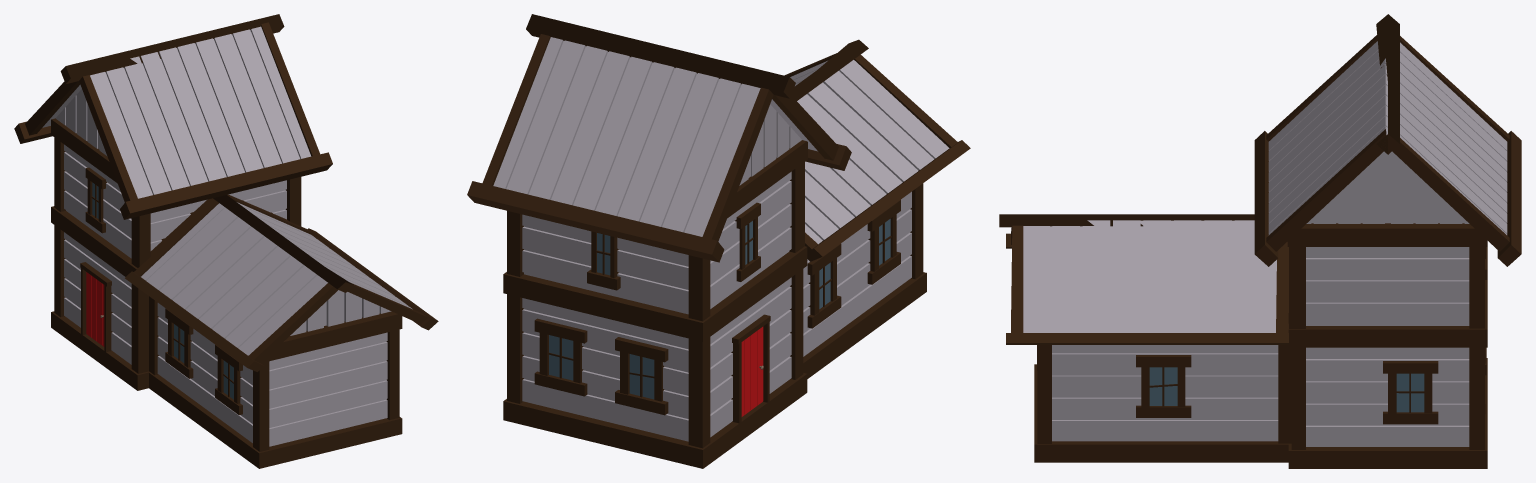
File: House10.fbx
3 views of the same model, side by side, from view 1: azimuth 30°, elevation 25°; view 2: azimuth 150°, elevation 25°; view 3: azimuth 270°, elevation 25° (orthographic). The views are drawn at different scales.
Parts seen in each view (by area): view 1: arc; view 2: arc; view 3: arc.
Boxes of the visible parts, left/top/right/bottom form: arc: left=14, top=14, right=438, bottom=468; arc: left=467, top=14, right=970, bottom=468; arc: left=999, top=14, right=1521, bottom=468.
Size of the model in its own units: 2550 by 3425 by 4685.
